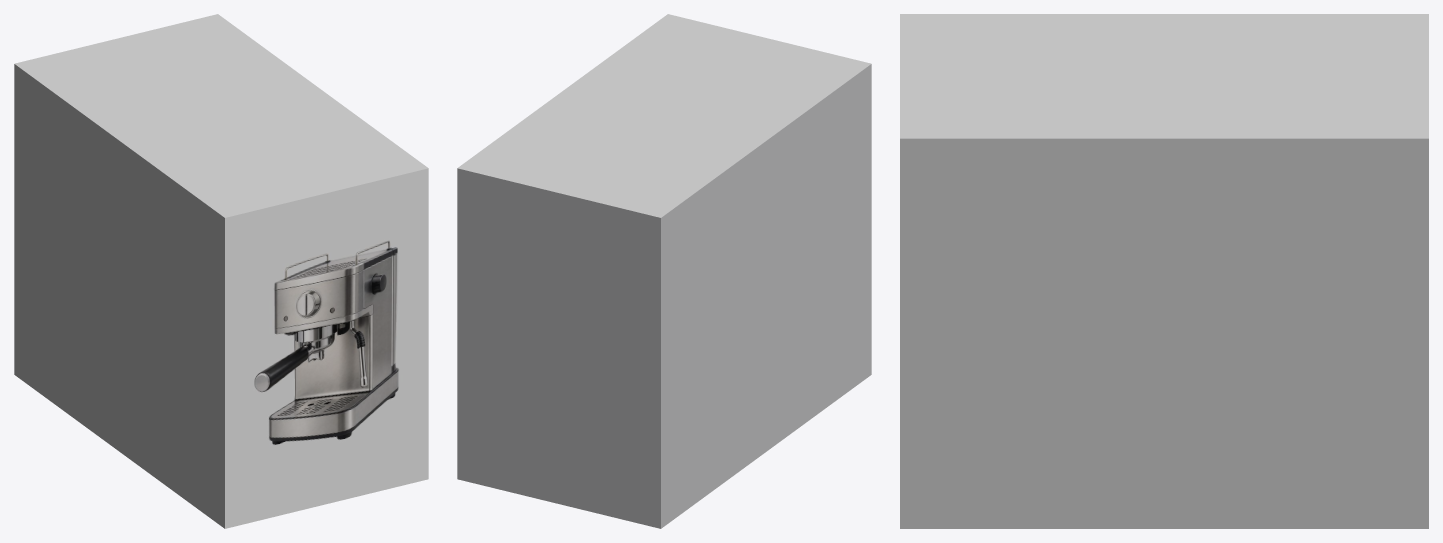
3 views of the same model, side by side, from view 1: azimuth 30°, elevation 25°; view 2: azimuth 150°, elevation 25°; view 3: azimuth 270°, elevation 25° (orthographic). The views are drawn at different scales.
Parts seen in each view (by area): view 1: product; view 2: product; view 3: product.
Part boxes in pixels (x1,y1,x2,y2): product: (14, 14, 428, 528); product: (457, 14, 871, 528); product: (900, 14, 1428, 528).
Bounding box in the file's own units: 0.24 × 0.35 × 0.43.
2 materials, 1 textured.
